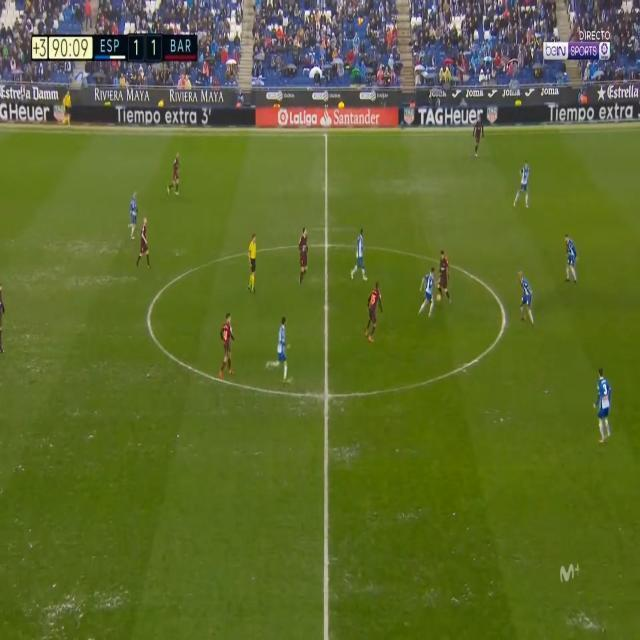Arbitre: (244, 231, 262, 297)
Ballon: (436, 293, 442, 304)
Joueur: (592, 368, 617, 446), (271, 313, 293, 385), (218, 310, 239, 379), (364, 279, 385, 345), (515, 268, 536, 331), (417, 266, 437, 323), (352, 224, 370, 287), (295, 222, 313, 285), (436, 247, 455, 306), (564, 233, 583, 289), (516, 156, 534, 214), (136, 216, 152, 273), (127, 188, 142, 243), (168, 151, 183, 198), (473, 116, 485, 157)
